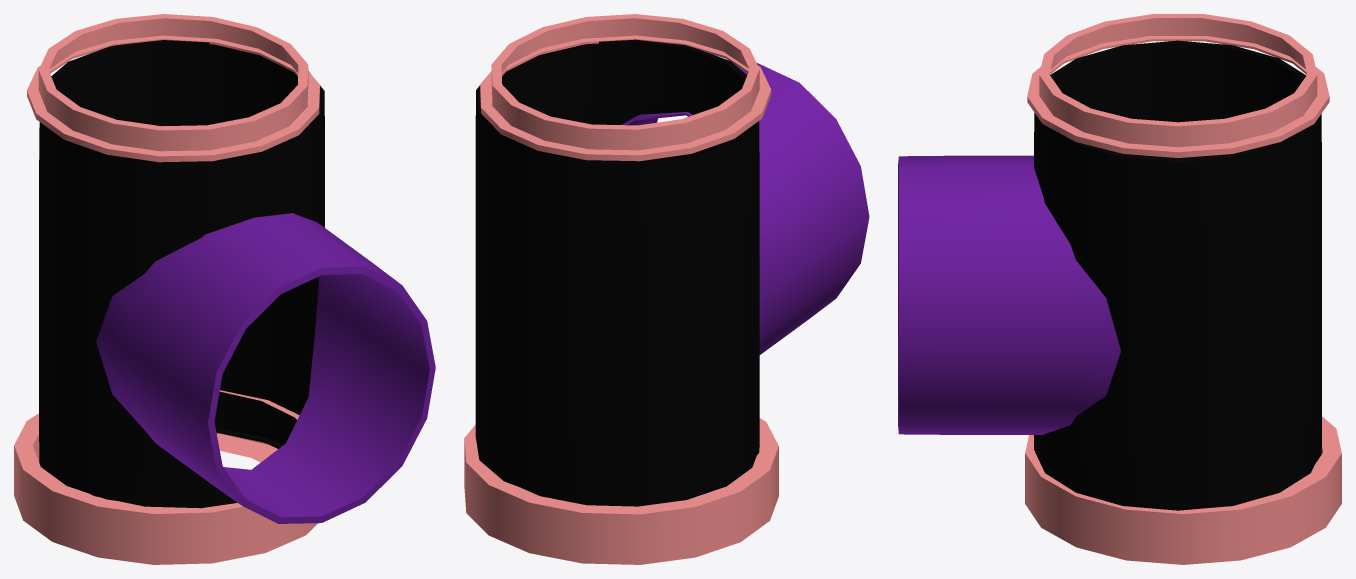
File: TTube.FBX
The picture shows the model from 3 angles, left to right: view 1: azimuth 30°, elevation 25°; view 2: azimuth 150°, elevation 25°; view 3: azimuth 270°, elevation 25°; orthographic projection.
Visible parts, largest first — view 1: TCube; view 2: TCube; view 3: TCube.
Boxes of the visible parts, x1=… form: TCube: x1=14, y1=14, x2=435, y2=564; TCube: x1=464, y1=14, x2=869, y2=564; TCube: x1=898, y1=14, x2=1341, y2=564.
Bounding box in the file's own units: 56.2 × 84.04 × 79.08.
